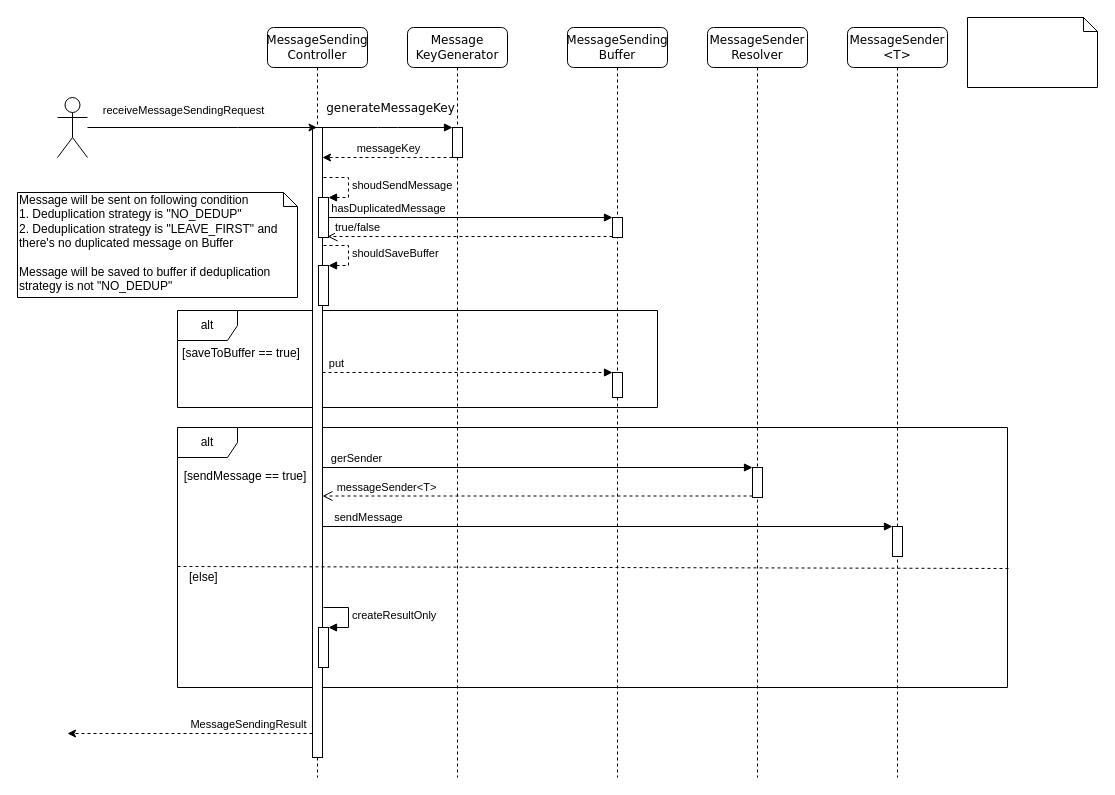
Some shapes in this 1115 by 795 pixel diagram are drawn without their labels. The box of each missing label's shape, as (x1, y1, x2, y2) in pixels:
Actor: (56, 96, 88, 158)
MessageSender is interface for each type of implementations (eg. Slack,Email...): (966, 16, 1098, 88)
